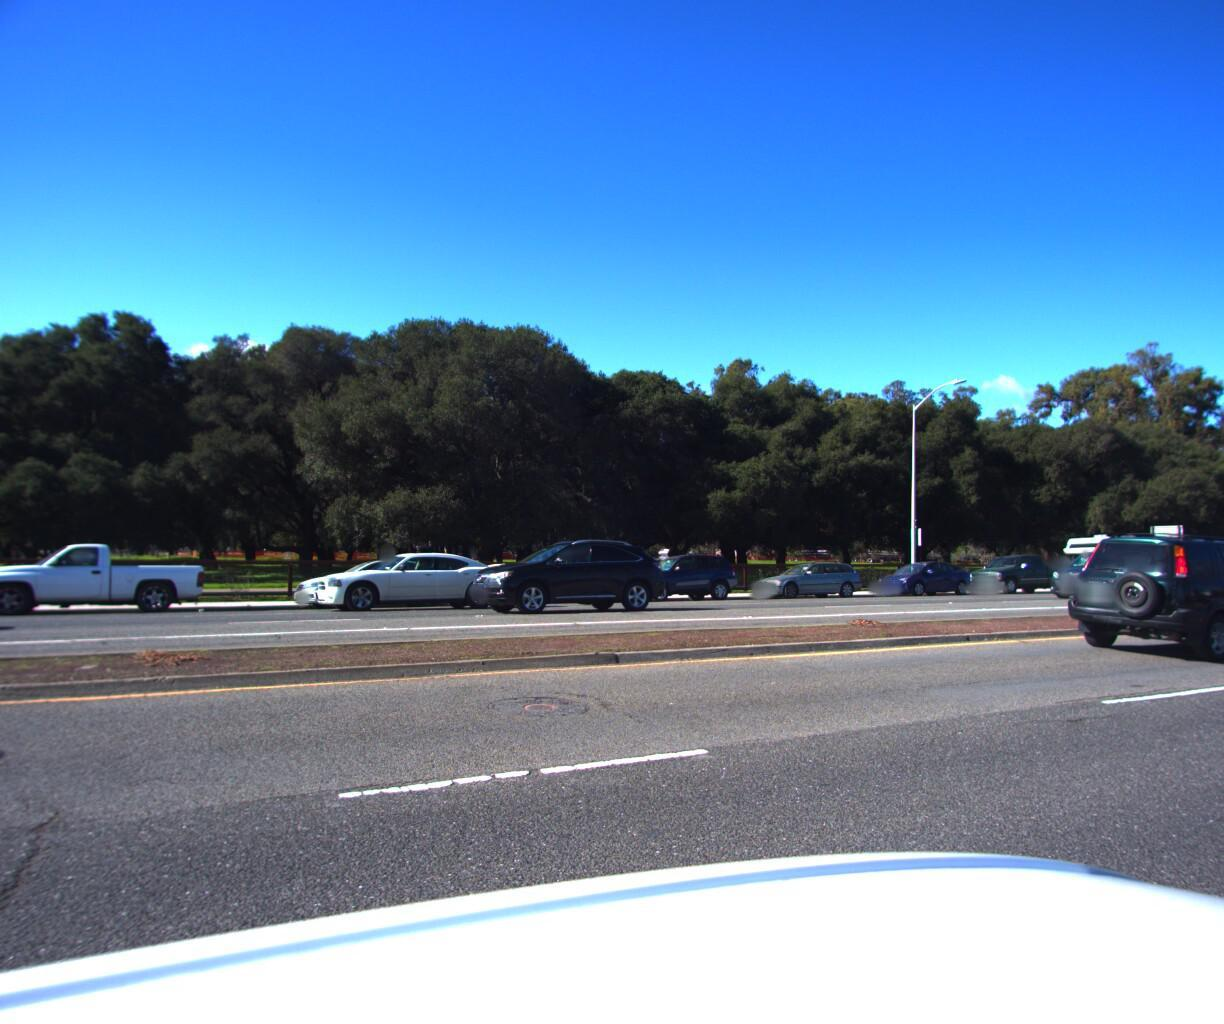car: (1050, 526, 1224, 668), (460, 537, 674, 613), (304, 548, 526, 612), (294, 555, 462, 610), (1038, 542, 1181, 597), (616, 547, 745, 601), (748, 554, 867, 596), (959, 550, 1078, 590), (868, 556, 976, 595)
other_vehicle: (1051, 526, 1184, 589), (1216, 522, 1224, 584)
